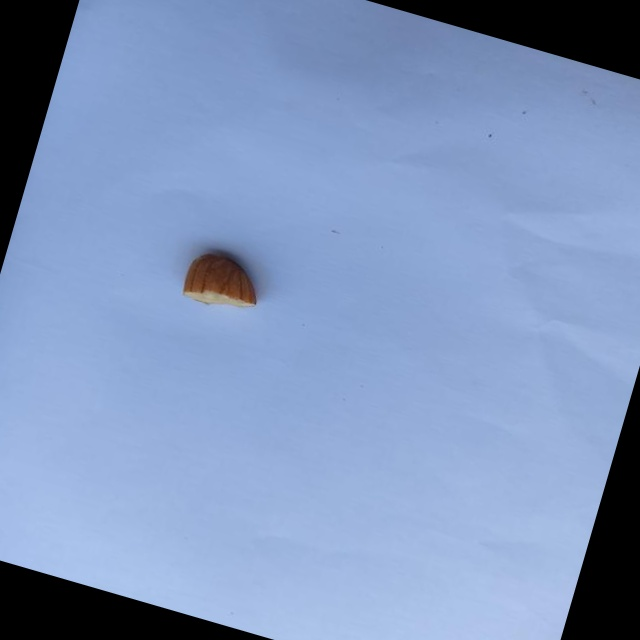grade4: (172, 239, 277, 324)
